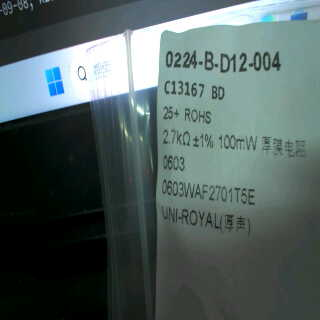2.7kR: (160, 125, 192, 149)
